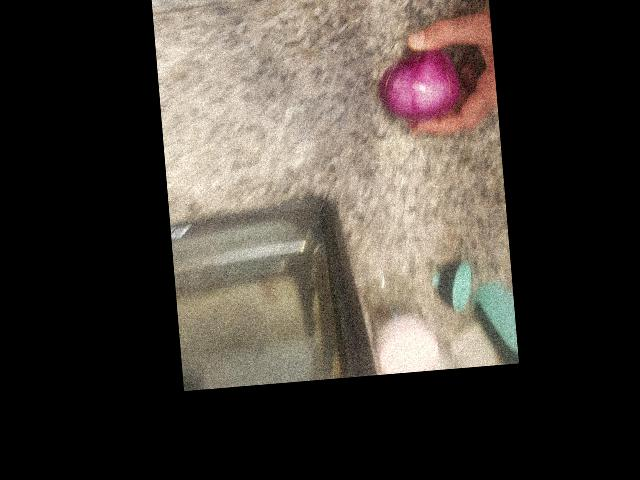onion: (167, 83, 257, 171)
